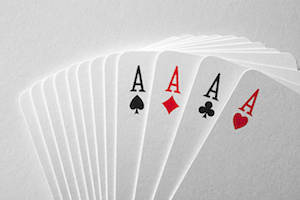AceOfClubs: (191, 49, 228, 138)
AceOfDiamonds: (150, 48, 193, 157)
AceOfHearts: (225, 66, 300, 190)
AceOfSpades: (110, 50, 149, 163)
